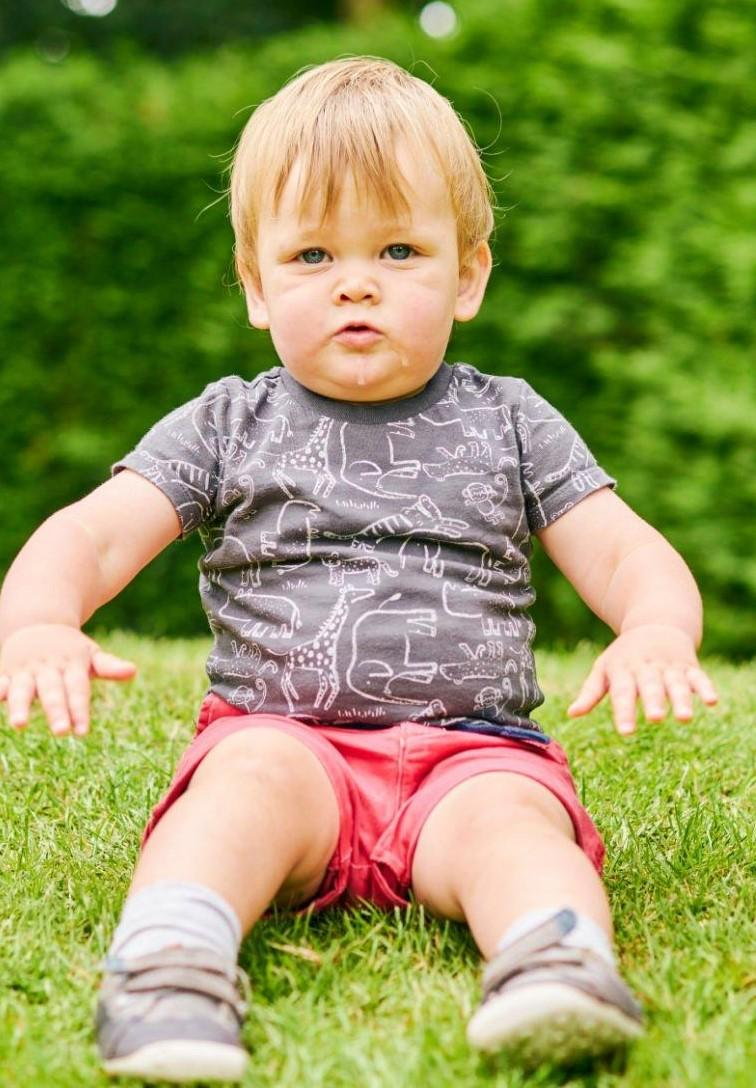Healthy: (234, 148, 489, 407)
